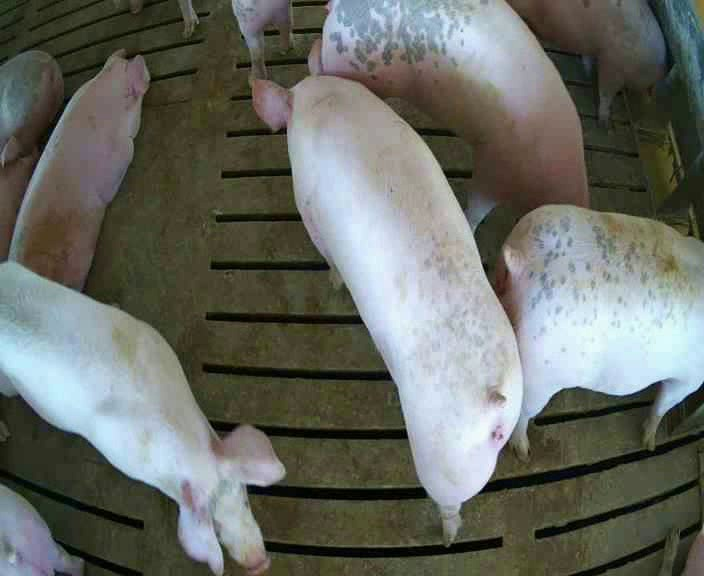pig: (253, 39, 522, 543), (322, 2, 588, 235), (495, 205, 703, 455), (10, 50, 149, 289), (511, 1, 665, 119), (0, 50, 63, 154)
